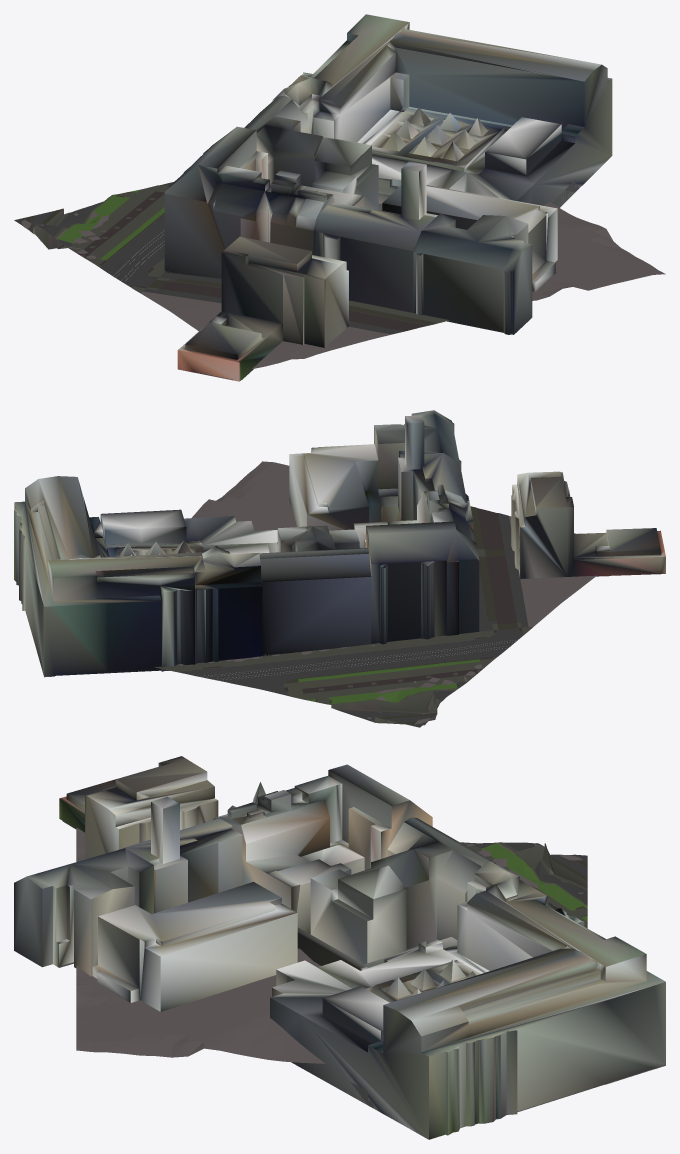
The picture shows the model from 3 angles, top to bottom: view 1: azimuth 30°, elevation 25°; view 2: azimuth 150°, elevation 25°; view 3: azimuth 270°, elevation 25°; orthographic projection. The views are drawn at different scales.
Parts seen in each view (by area): view 1: c_m07_p00; view 2: c_m07_p00; view 3: c_m07_p00.
Part boxes in pixels (x1,y1,x2,y2): c_m07_p00: (14,14,665,381); c_m07_p00: (14,410,665,727); c_m07_p00: (14,756,665,1139).
Size of the model in its own units: 179 by 47.64 by 163.
